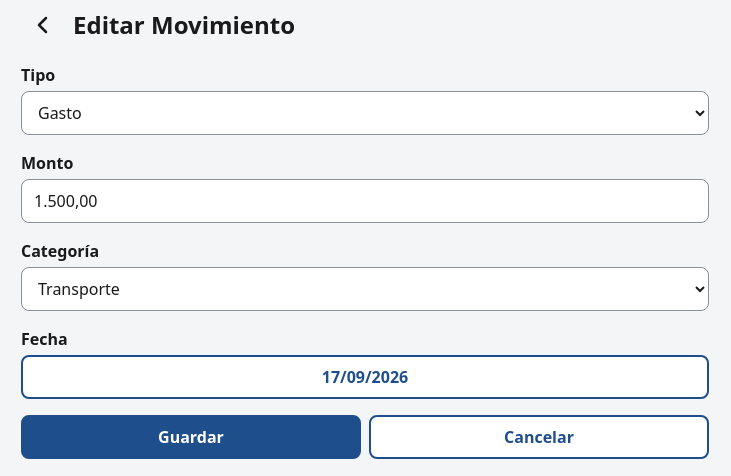
Scenario: FormularioMovimiento en modo edición › al cambiar a "Ingreso" pasa a "Pago Ingresado" y muestra solo categorías de ingreso (AC-64)
Select "Ingreso" in the dropdown labelled "Tipo" at x=365, y=113, box [21,91,709,135]
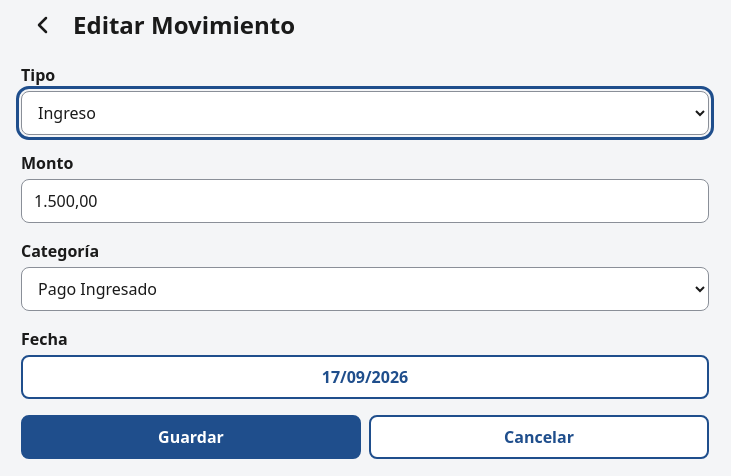
Expected: the field labelled "Monto" holds "1.500,00", [21,179,709,223]
Result: the dropdown labelled "Categoría" shows "Pago Ingresado" at [21,267,709,311]
